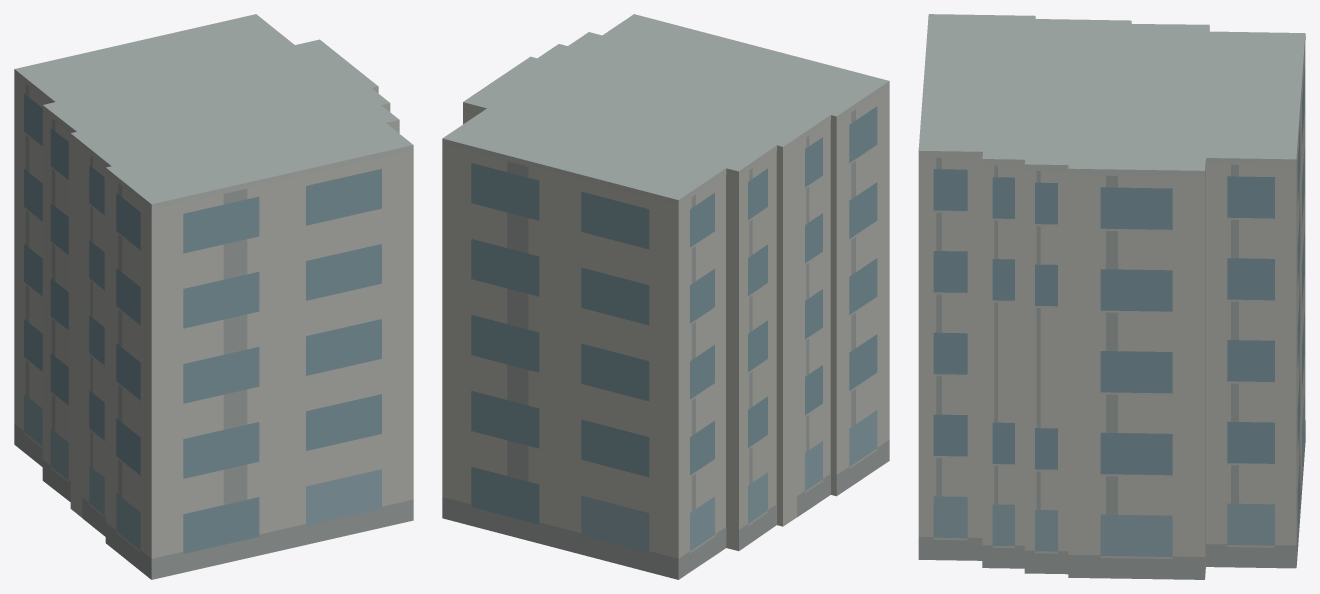
File: survey-upis-32961737.glb
3 views of the same model, side by side, from view 1: azimuth 30°, elevation 25°; view 2: azimuth 150°, elevation 25°; view 3: azimuth 270°, elevation 25° (orthographic). The views are drawn at different scales.
Visible parts, largest first — view 1: survey-upis-32961737.tmp; view 2: survey-upis-32961737.tmp; view 3: survey-upis-32961737.tmp.
Boxes of the visible parts, x1,y1,x2,y2 form: survey-upis-32961737.tmp: (14, 14, 413, 579); survey-upis-32961737.tmp: (442, 14, 889, 579); survey-upis-32961737.tmp: (918, 14, 1305, 579).
Bounding box in the file's own units: 12.76 × 15.5 × 13.3.
